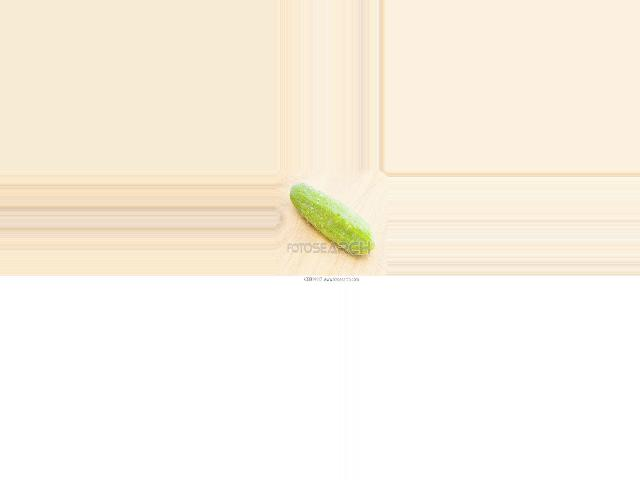cucumber: (289, 182, 376, 256)
